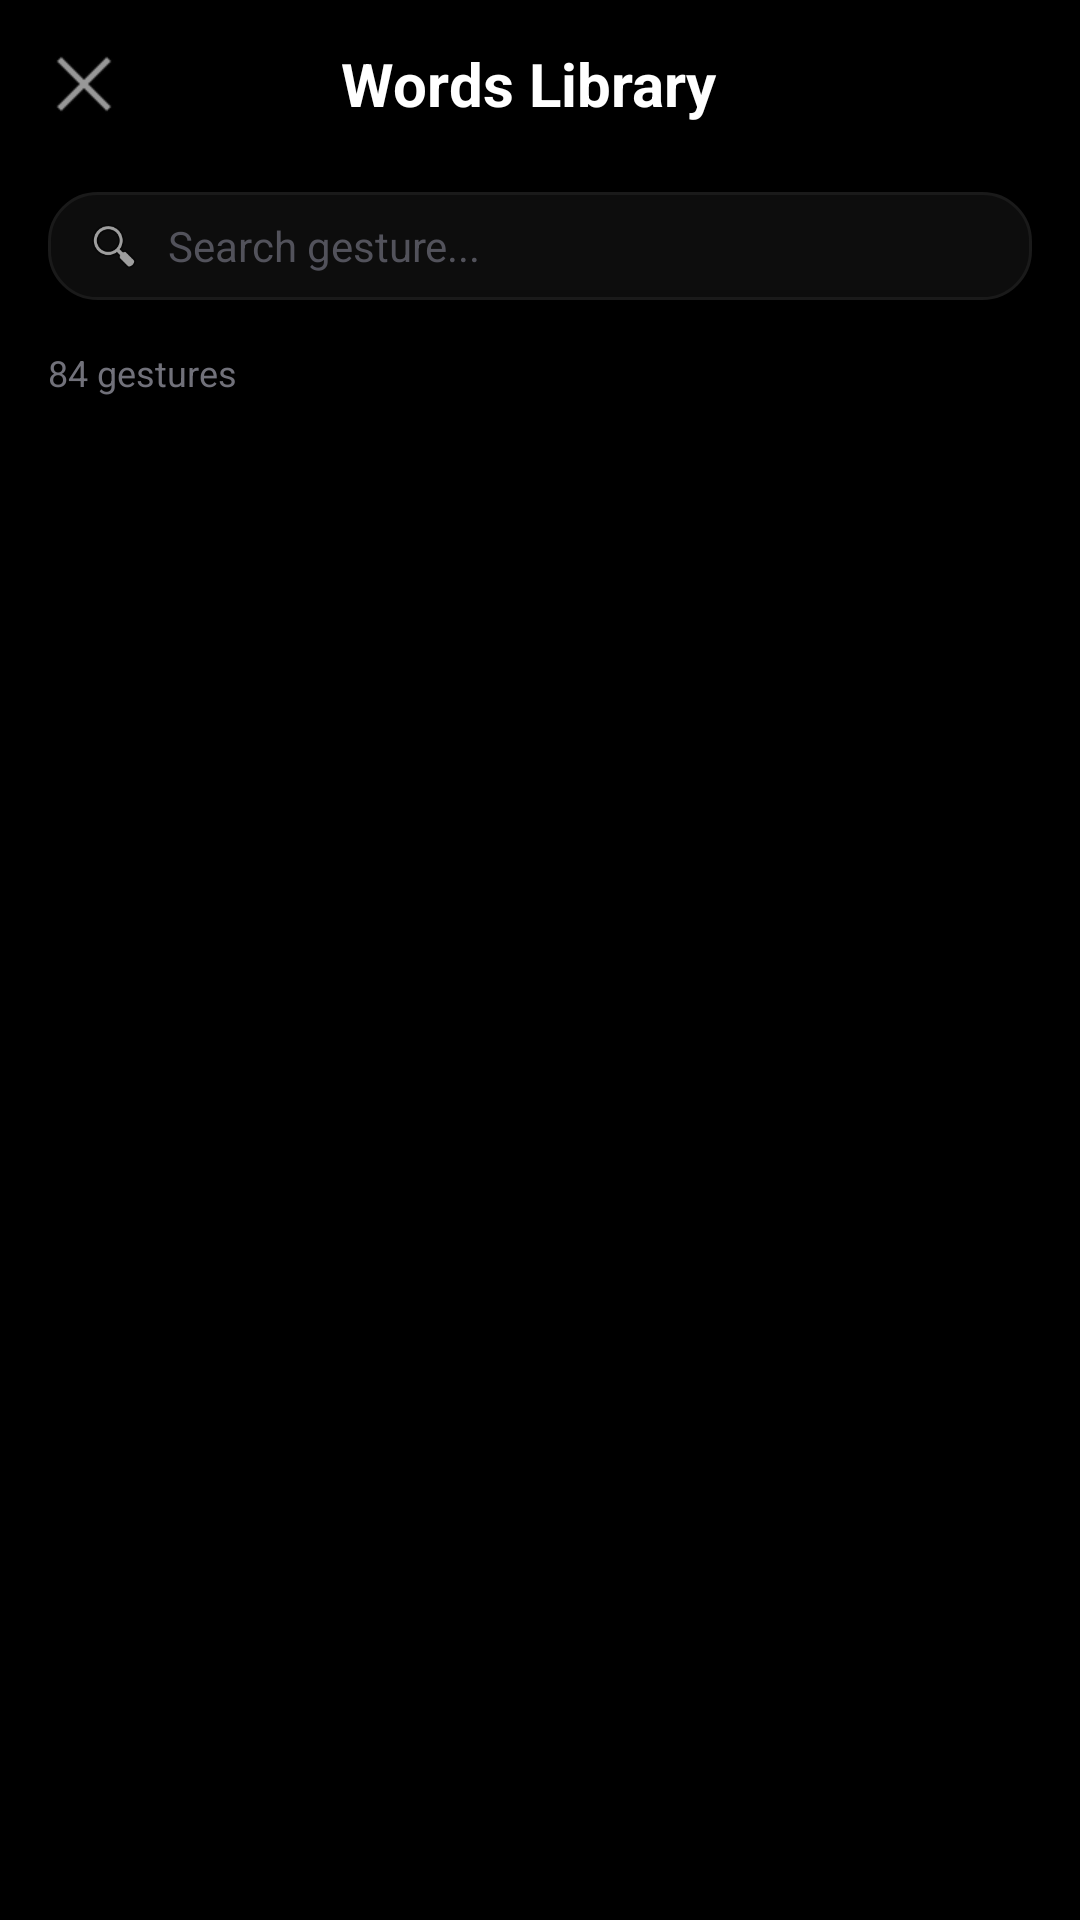

Screen size 1080 × 1920. Icon name, then its box in pixels as [x1, y1, x2, y2]:
close clear cancel: [57, 57, 111, 111]
